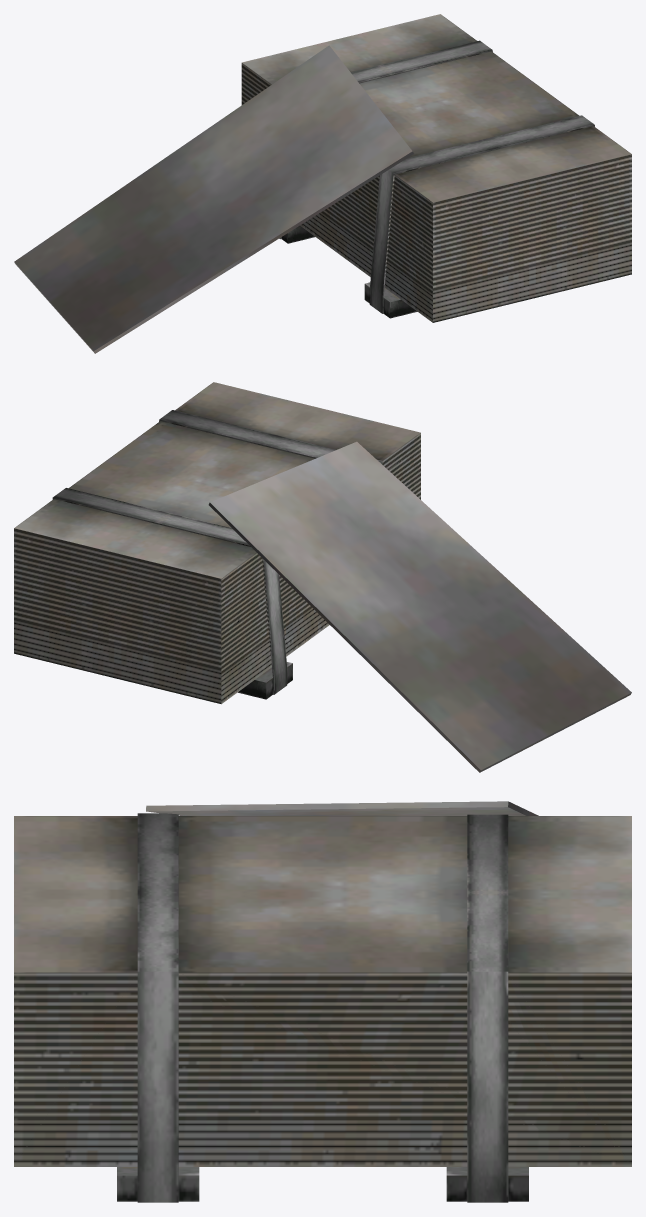
File: poi_all_construction_metal_pile_l1.fbx
3 renders of one model, top to bottom at view 1: azimuth 30°, elevation 25°; view 2: azimuth 150°, elevation 25°; view 3: azimuth 270°, elevation 25°, orthographic. The views are drawn at different scales.
Visible parts, largest first — view 1: mesh_node; view 2: mesh_node; view 3: mesh_node.
Boxes of the visible parts, x1,y1,x2,y2 form: mesh_node: (14, 14, 631, 353); mesh_node: (14, 382, 631, 772); mesh_node: (14, 801, 631, 1202).
Size of the model in its own units: 4.36 by 1.47 by 3.
1 material, 1 textured.
